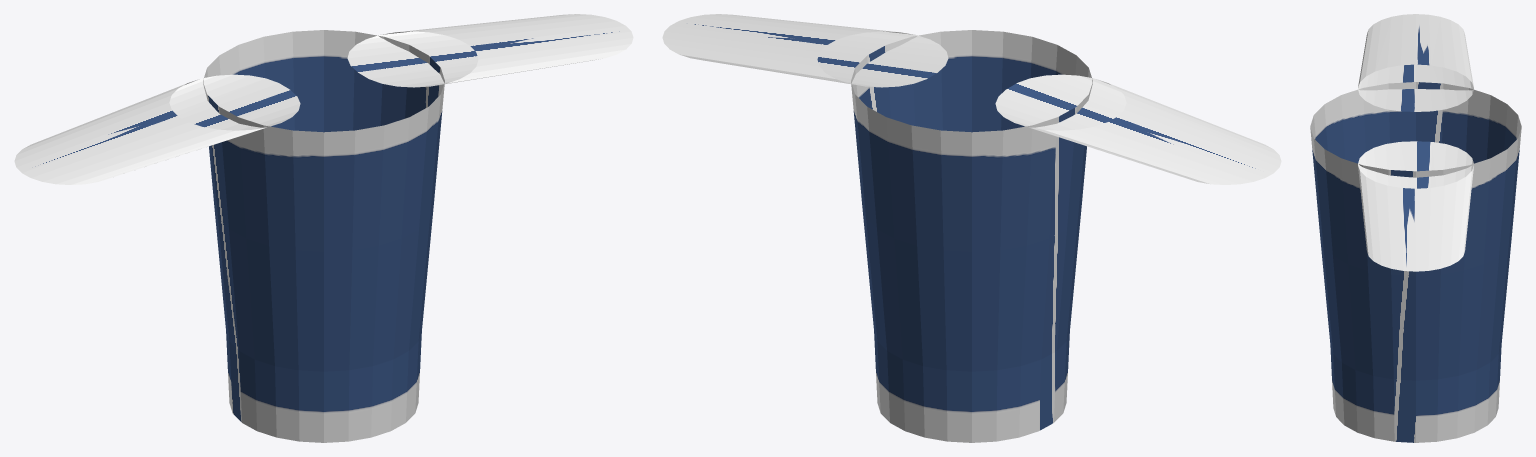
The picture shows the model from 3 angles, left to right: view 1: azimuth 30°, elevation 25°; view 2: azimuth 150°, elevation 25°; view 3: azimuth 270°, elevation 25°; orthographic projection. The views are drawn at different scales.
Size of the model in its own units: 1.01 by 0.512 by 0.3489.
1 material, 1 textured.
